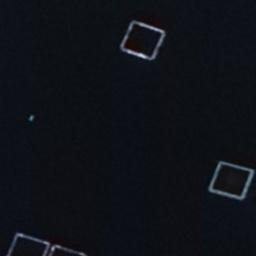square_solid: (203, 154, 256, 204), (115, 16, 170, 63), (4, 228, 56, 256), (44, 240, 90, 256)
